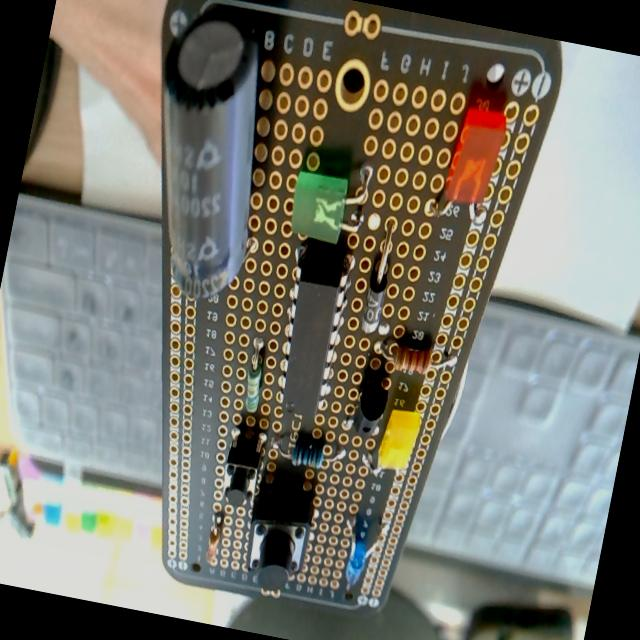Electrolytic capacitor: (111, 0, 296, 322)
IC: (268, 236, 366, 427)
diode: (352, 220, 412, 358)
led: (426, 69, 528, 238), (274, 137, 385, 253), (329, 500, 399, 596), (363, 399, 431, 486)
resistor: (377, 323, 466, 376), (272, 424, 346, 474), (234, 333, 272, 419), (201, 503, 229, 575)
switch: (240, 497, 316, 592), (218, 440, 272, 514)
transistor: (338, 359, 398, 447)
